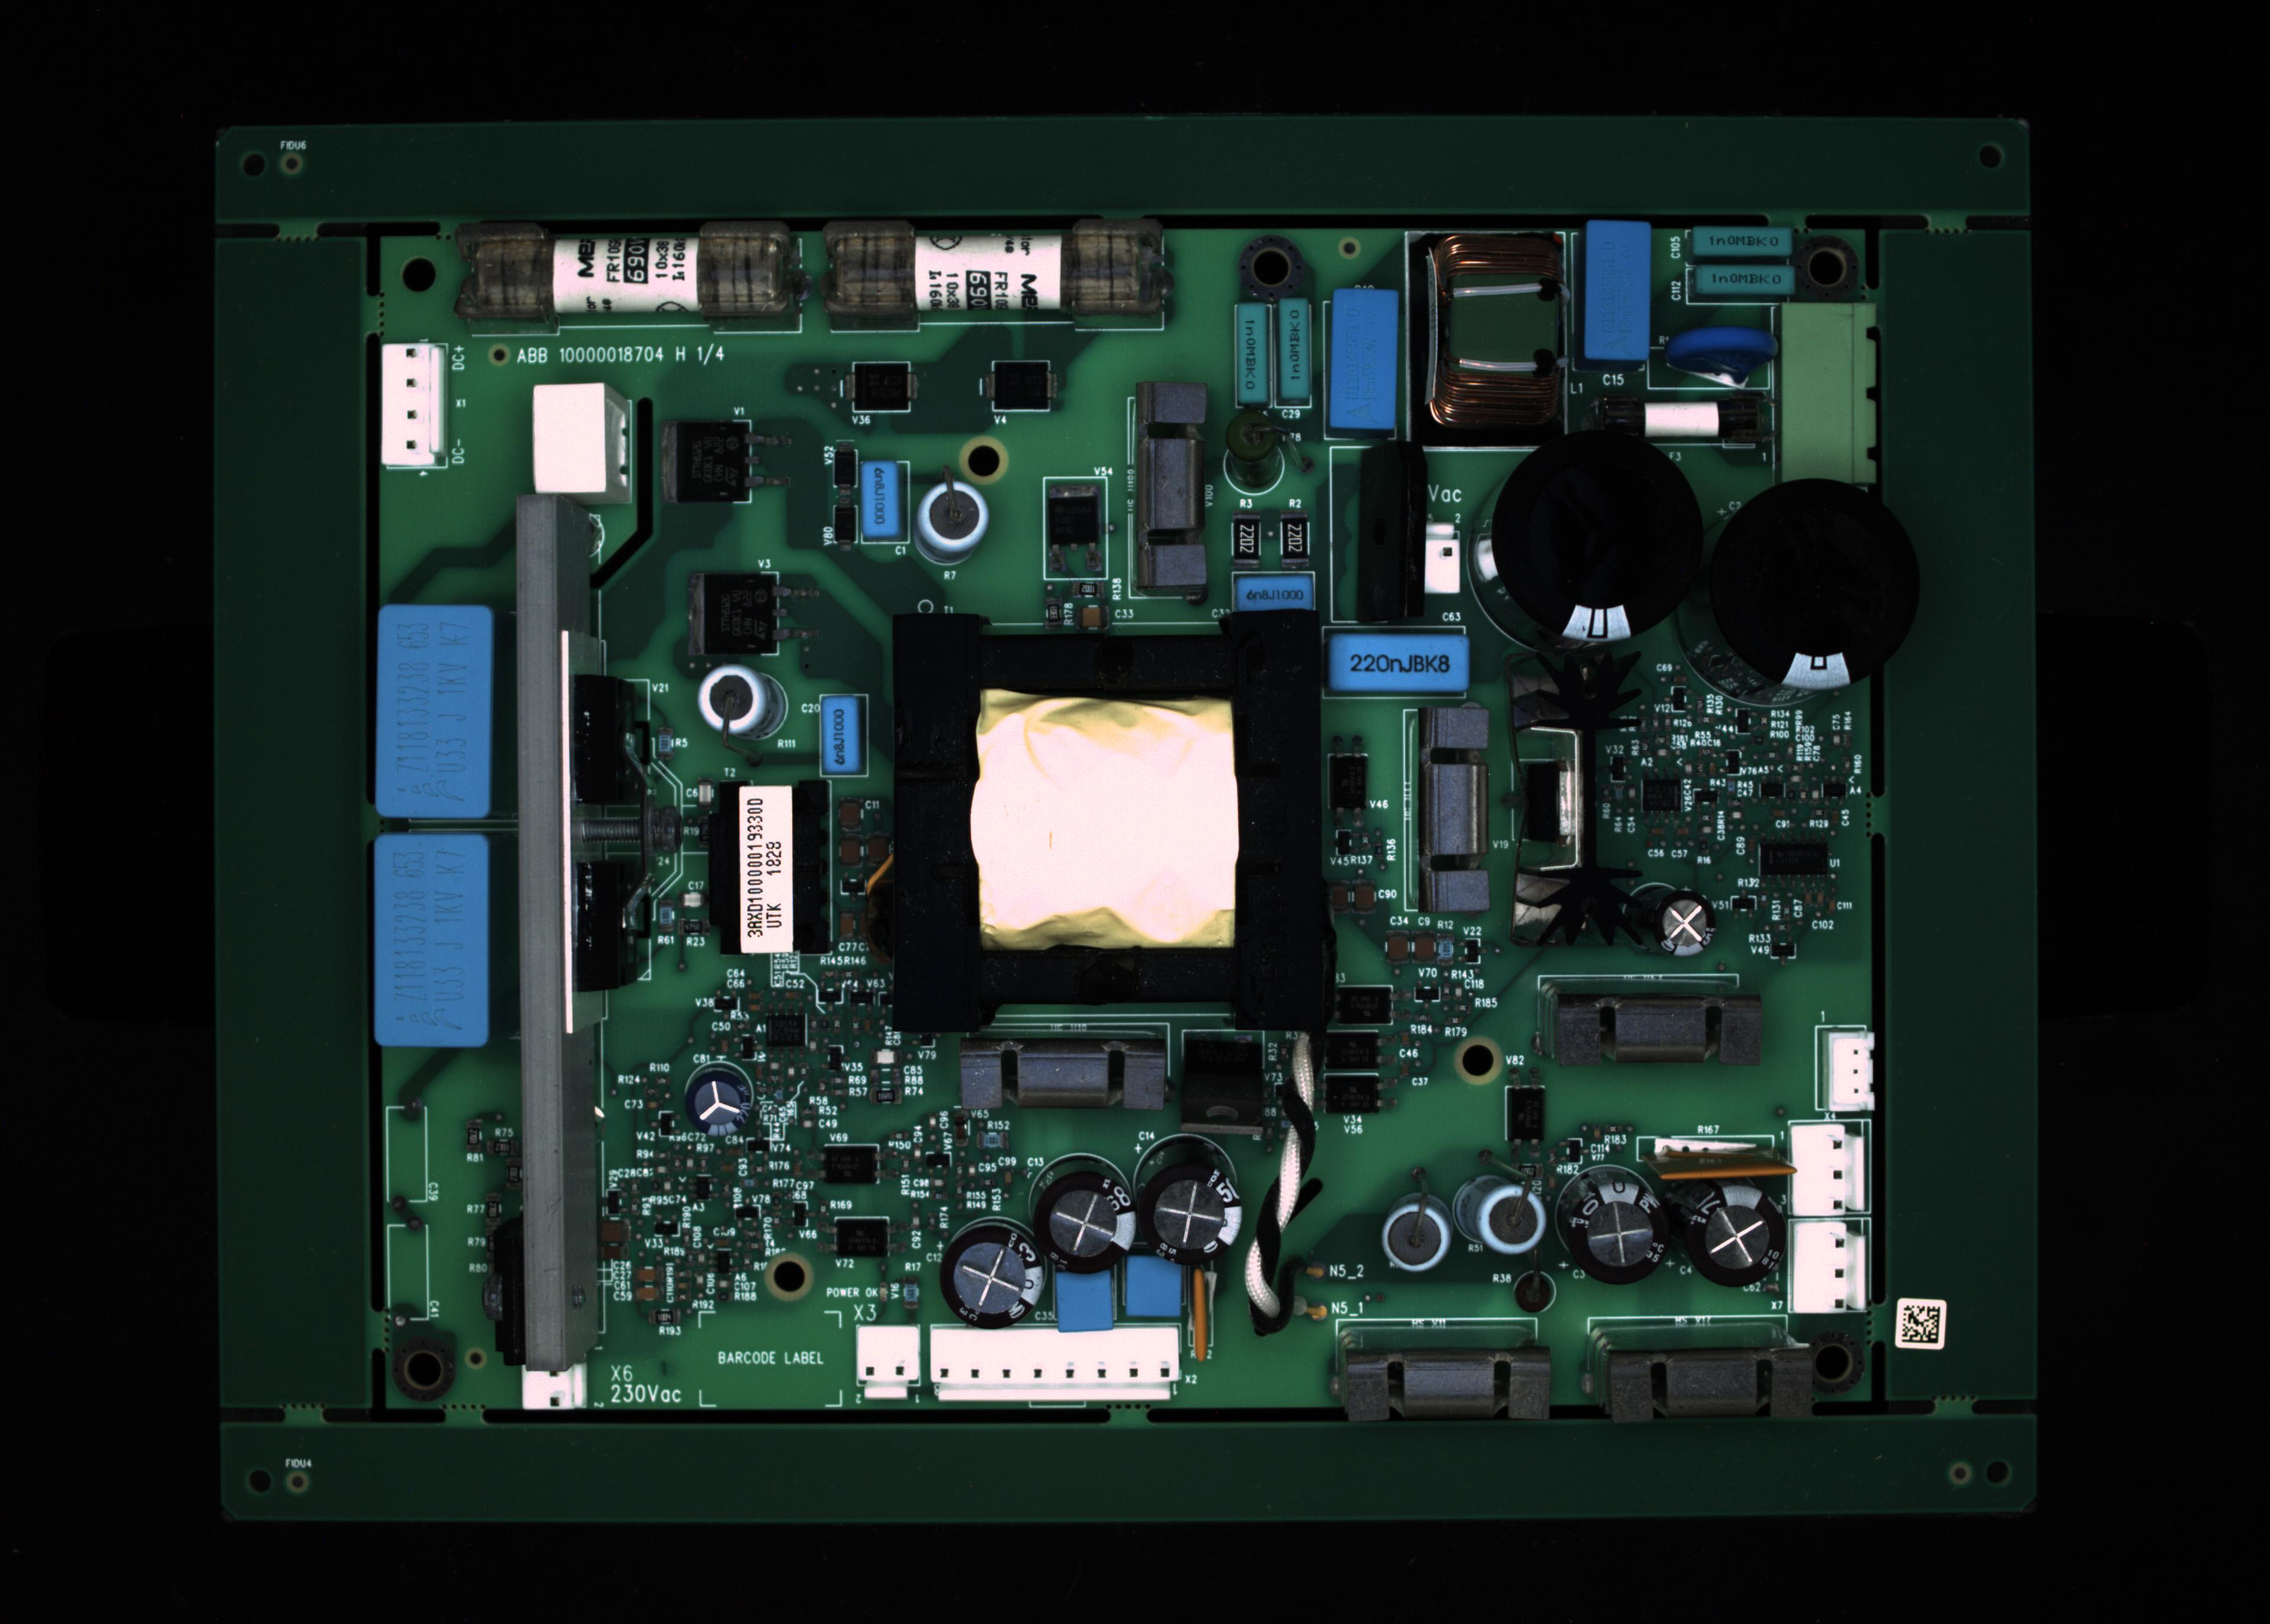10_p: (1648, 346, 1772, 394)
11_q: (1781, 306, 1876, 483)
12_r: (1591, 387, 1776, 455)
13_s: (380, 343, 445, 464)
14_t: (533, 383, 626, 504)
15_e: (858, 462, 899, 540)
16_k: (911, 482, 990, 566)
17_u: (1127, 385, 1204, 589)
18_v: (1236, 576, 1317, 615)
19_w: (1331, 631, 1466, 691)
1_a: (459, 216, 807, 320)
20_f: (1393, 517, 1470, 599)
21_g: (1493, 429, 1709, 642)
22_g: (1709, 478, 1924, 692)
23_h: (376, 605, 494, 814)
24_h: (376, 831, 489, 1046)
25_f: (520, 1360, 587, 1408)
26_f: (856, 1325, 918, 1399)
27_x: (930, 1327, 1176, 1401)
28_i: (1139, 1155, 1241, 1265)
29_i: (1034, 1167, 1136, 1274)
2_a: (821, 216, 1175, 316)
30_i: (937, 1222, 1048, 1330)
31_j: (1051, 1272, 1113, 1330)
32_j: (1125, 1251, 1187, 1318)
33_e: (819, 694, 860, 766)
34_k: (1379, 1190, 1452, 1276)
35_k: (1451, 1172, 1546, 1253)
36_i: (1558, 1179, 1672, 1285)
37_i: (1686, 1181, 1793, 1288)
38_l: (1333, 1348, 1560, 1424)
39_l: (1593, 1348, 1823, 1418)
3_b: (1236, 295, 1270, 402)
40_l: (1540, 993, 1771, 1069)
41_y: (1414, 712, 1488, 909)
42_z: (1827, 1035, 1874, 1109)
43_m: (1793, 1127, 1862, 1218)
44_m: (1795, 1222, 1866, 1313)
45_i: (679, 1069, 758, 1139)
46_n: (1338, 982, 1391, 1026)
47_n: (823, 1146, 879, 1192)
48_n: (837, 1214, 893, 1260)
49_aa: (761, 1011, 809, 1048)
4_b: (1282, 299, 1317, 401)
50_n: (1321, 1030, 1379, 1069)
51_n: (1326, 1076, 1379, 1118)
52_ab: (1329, 754, 1368, 814)
53_ac: (1656, 1130, 1790, 1165)
54_ad: (1194, 1269, 1211, 1364)
55_l: (964, 1033, 1175, 1114)
56_ae: (1176, 1035, 1262, 1137)
57_af: (1523, 647, 1649, 951)
58_i: (1651, 891, 1720, 956)
59_o: (993, 360, 1053, 413)
5_c: (1329, 286, 1400, 424)
60_o: (853, 360, 907, 413)
6_ag: (1426, 232, 1572, 434)
7_c: (1588, 218, 1649, 353)
8_d: (1686, 227, 1792, 260)
9_d: (1692, 265, 1793, 294)
